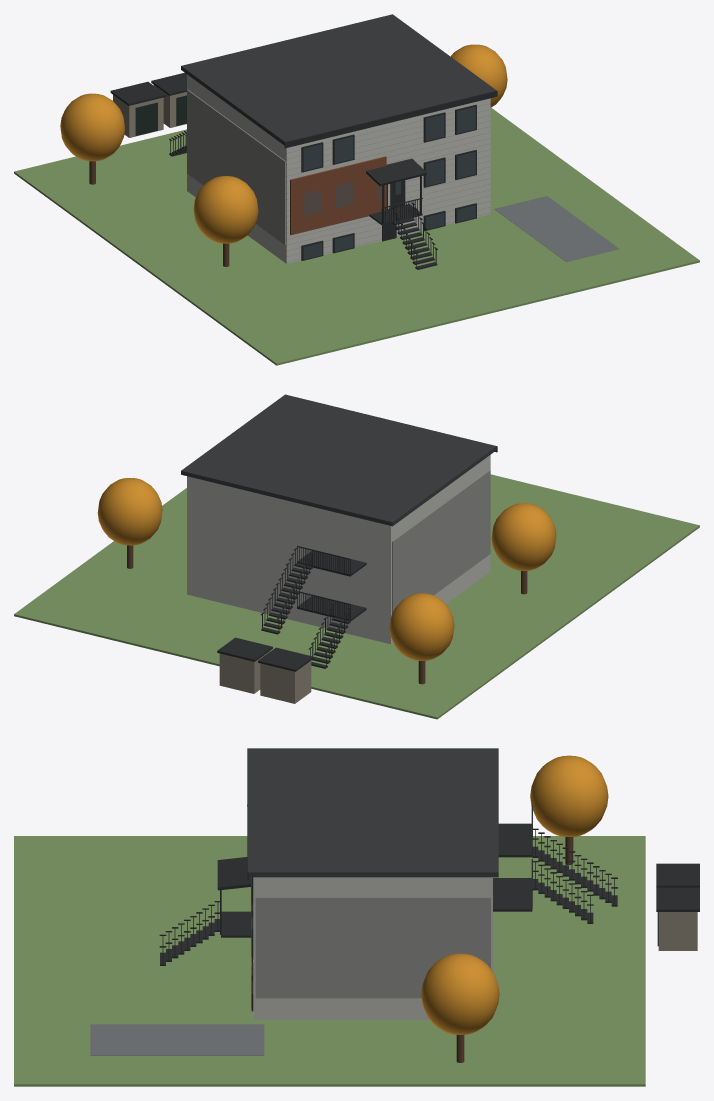
File: exterior-v1.glb
3 views of the same model, one above another, from view 1: azimuth 30°, elevation 25°; view 2: azimuth 150°, elevation 25°; view 3: azimuth 270°, elevation 25° (orthographic). The views are drawn at different scales.
Parts seen in each view (by area): view 1: lawn, flat roof, stone walls, autumn tree (×3), side siding, wood cladding panel, driveway, window frame (×6), roof fascia, shed roof (×2), porch roof, garden shed (+2 smaller); view 2: lawn, stone walls, flat roof, autumn tree (×3), side siding, garden shed (×2), rear balcony (×2), shed roof (×2); view 3: lawn, flat roof, side siding, autumn tree (×2), stone walls, driveway, rear balcony (×2), shed roof (×2), garden shed, porch roof, porch landing.
Part boxes in pixels (x1=…): lawn: x1=14, y1=108, x2=699, y2=365; flat roof: x1=181, y1=14, x2=496, y2=145; stone walls: x1=187, y1=74, x2=490, y2=263; autumn tree (×3): x1=60, y1=44, x2=507, y2=243; side siding: x1=187, y1=89, x2=285, y2=244; wood cladding panel: x1=290, y1=156, x2=386, y2=235; driveway: x1=494, y1=196, x2=619, y2=261; window frame (×6): x1=301, y1=104, x2=476, y2=187; roof fascia: x1=284, y1=90, x2=497, y2=148; shed roof (×2): x1=110, y1=72, x2=186, y2=105; porch roof: x1=366, y1=158, x2=426, y2=186; garden shed: x1=113, y1=95, x2=163, y2=137; lawn: x1=14, y1=474, x2=699, y2=719; stone walls: x1=187, y1=455, x2=490, y2=644; flat roof: x1=181, y1=394, x2=496, y2=526; autumn tree (×3): x1=97, y1=478, x2=556, y2=660; side siding: x1=392, y1=470, x2=490, y2=613; garden shed (×2): x1=219, y1=651, x2=311, y2=703; rear balcony (×2): x1=297, y1=551, x2=366, y2=621; shed roof (×2): x1=217, y1=637, x2=313, y2=671; lawn: x1=14, y1=836, x2=645, y2=1086; flat roof: x1=248, y1=748, x2=498, y2=877; side siding: x1=255, y1=897, x2=490, y2=998; autumn tree (×2): x1=421, y1=755, x2=608, y2=1034; stone walls: x1=253, y1=877, x2=492, y2=1019; driveway: x1=90, y1=1024, x2=264, y2=1055; rear balcony (×2): x1=493, y1=823, x2=532, y2=911; shed roof (×2): x1=656, y1=863, x2=699, y2=911; garden shed: x1=658, y1=912, x2=697, y2=950; porch roof: x1=217, y1=857, x2=251, y2=890; porch landing: x1=221, y1=911, x2=250, y2=937.
Bounding box in the file's own units: 27 × 8.34 × 31.5.
